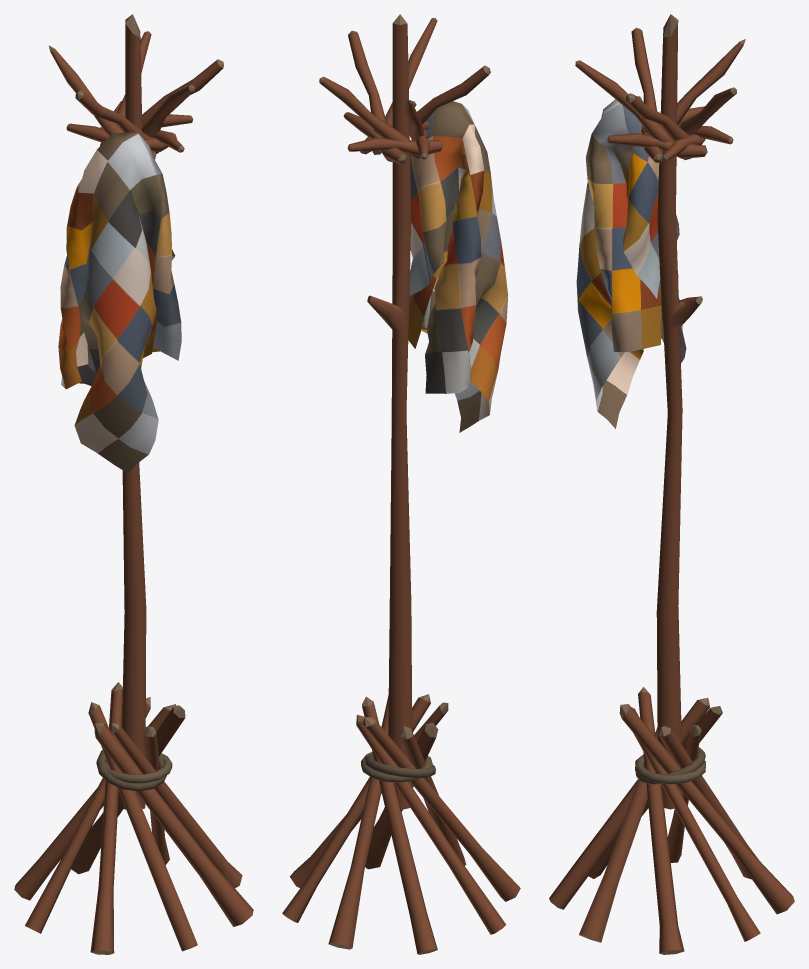
The model's file is P_hanger_01_LD.fbx.
The picture shows the model from 3 angles, left to right: view 1: azimuth 30°, elevation 25°; view 2: azimuth 150°, elevation 25°; view 3: azimuth 270°, elevation 25°; orthographic projection.
Visible parts, largest first — view 1: P_hanger_01; view 2: P_hanger_01; view 3: P_hanger_01.
Boxes of the visible parts, <box> form: P_hanger_01: <box>14,14,253,954</box>; P_hanger_01: <box>282,14,520,954</box>; P_hanger_01: <box>549,14,794,954</box>.
Bounding box in the file's own units: 57.59 × 232 × 57.58.
